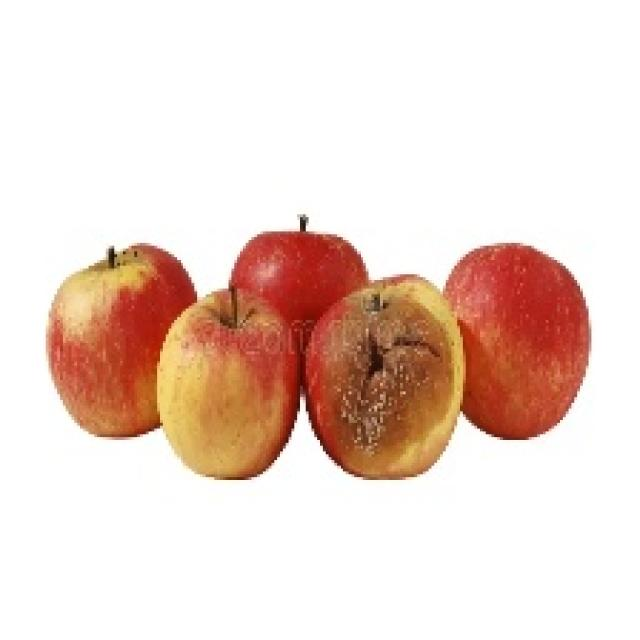rotten_apple: (311, 279, 463, 473)
